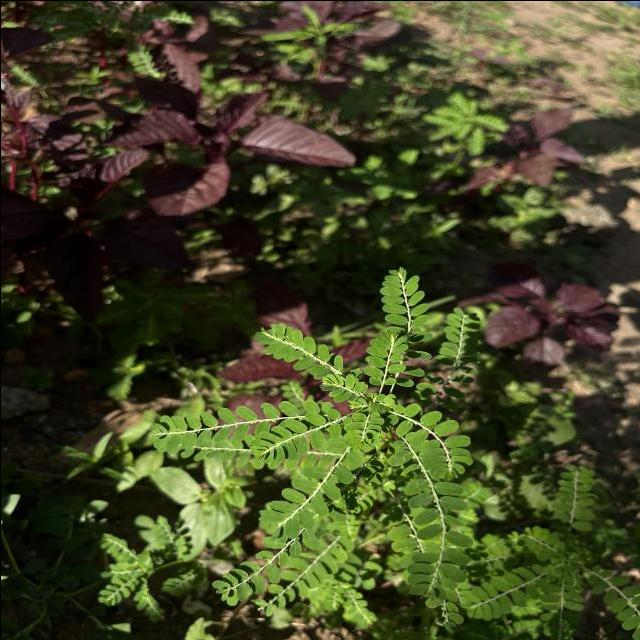Phyllanthus niruri: (383, 427, 473, 599), (258, 460, 354, 540), (384, 399, 474, 482), (248, 410, 344, 466), (252, 319, 341, 374), (146, 404, 252, 450), (378, 261, 428, 331), (360, 324, 410, 387), (342, 409, 384, 451), (314, 371, 368, 401)
